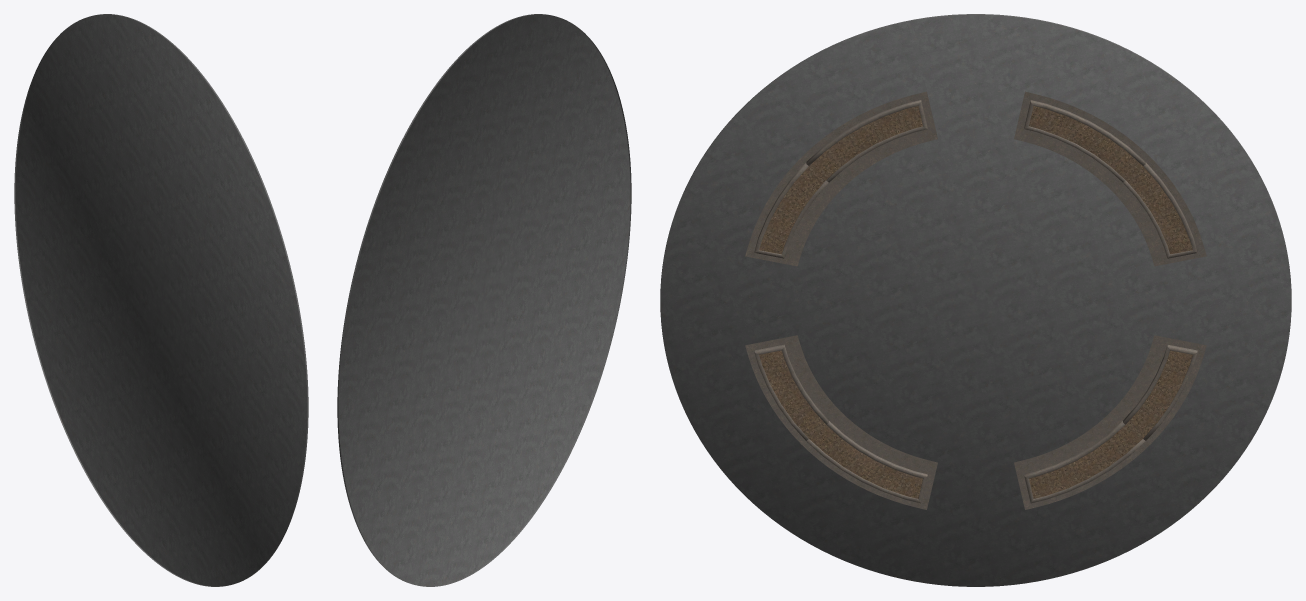
File: cP_FountainAreaCircle01.dae
3 views of the same model, side by side, from view 1: azimuth 30°, elevation 25°; view 2: azimuth 150°, elevation 25°; view 3: azimuth 270°, elevation 25° (orthographic). The views are drawn at different scales.
Parts seen in each view (by area): view 1: cP_FountainAreaCircle01.001; view 2: cP_FountainAreaCircle01.001; view 3: cP_FountainAreaCircle01.001.
Part boxes in pixels (left/top/right/bottom): cP_FountainAreaCircle01.001: left=14, top=14, right=308, bottom=586; cP_FountainAreaCircle01.001: left=337, top=14, right=631, bottom=586; cP_FountainAreaCircle01.001: left=660, top=14, right=1291, bottom=586.
Bounding box in the file's own units: 0.4589 × 47.93 × 47.93.
